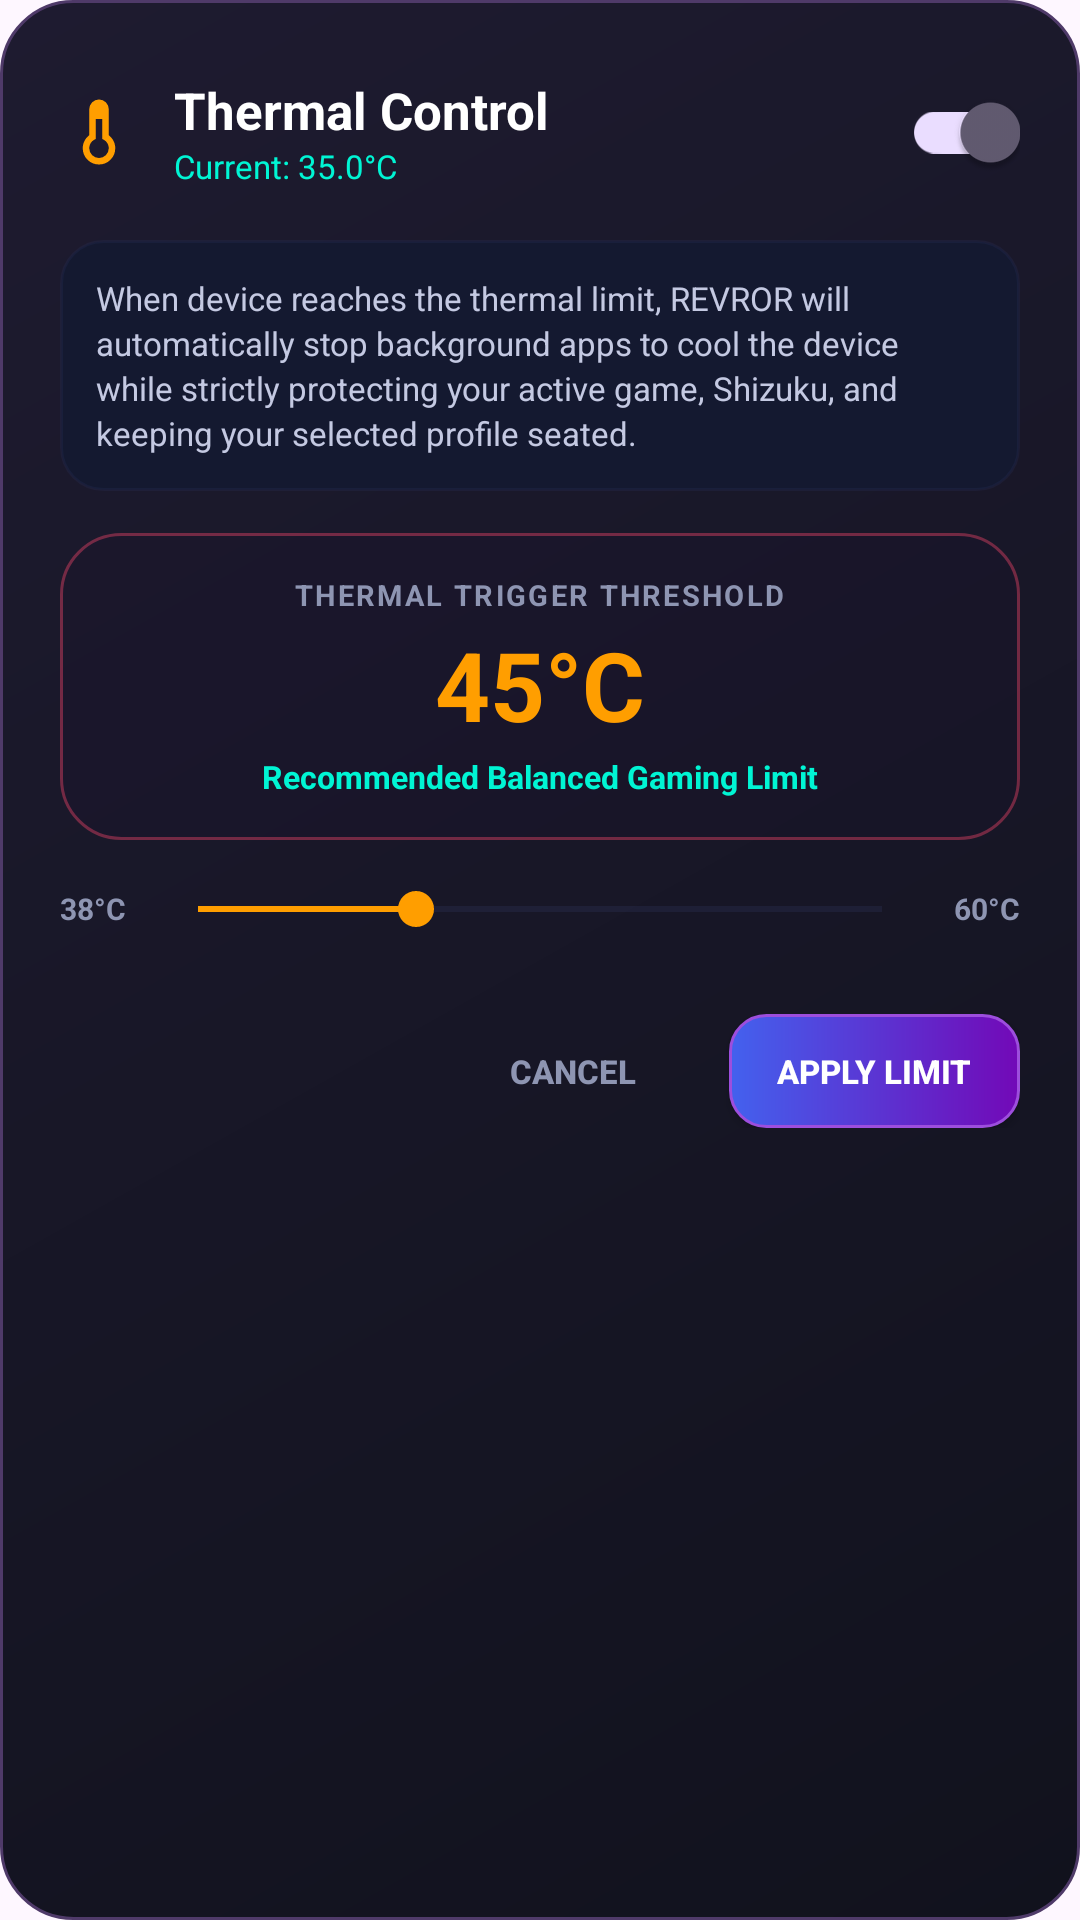

Icons on this 1080×1920 Android screen, each with the point to tap as (x,y):
temperature: (99,132)
